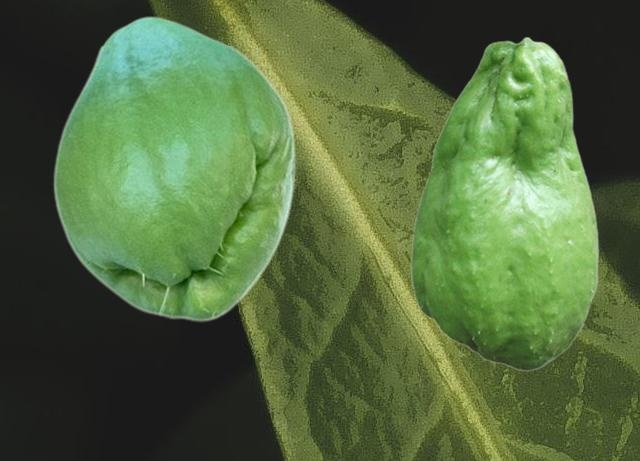sayote: (52, 16, 295, 322), (410, 36, 598, 370)
